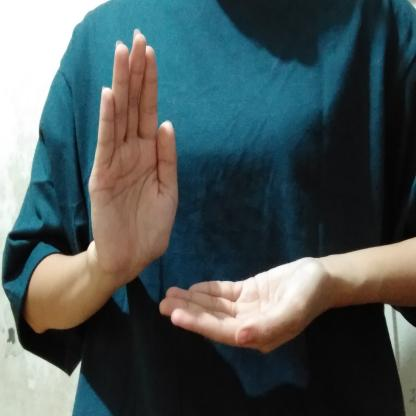hello: (82, 24, 396, 358)
